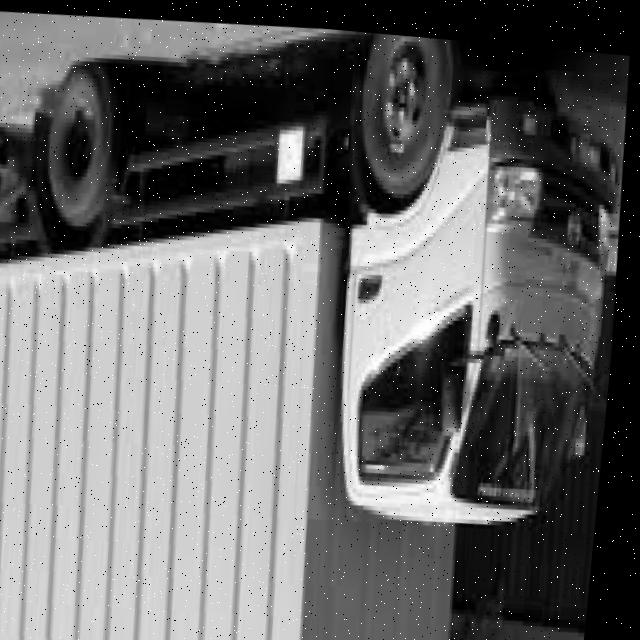truck: (304, 25, 640, 574)
